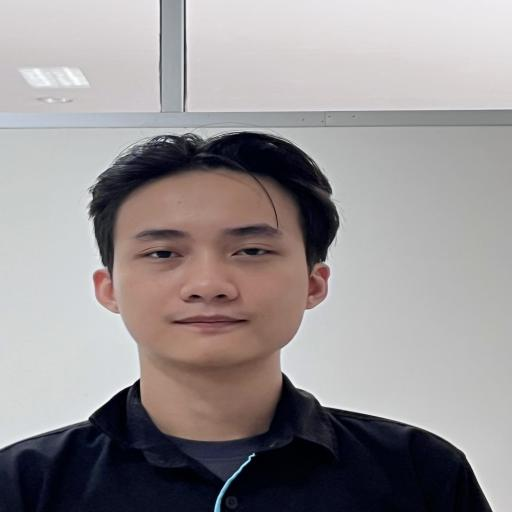wajah: (0, 92, 456, 468)
